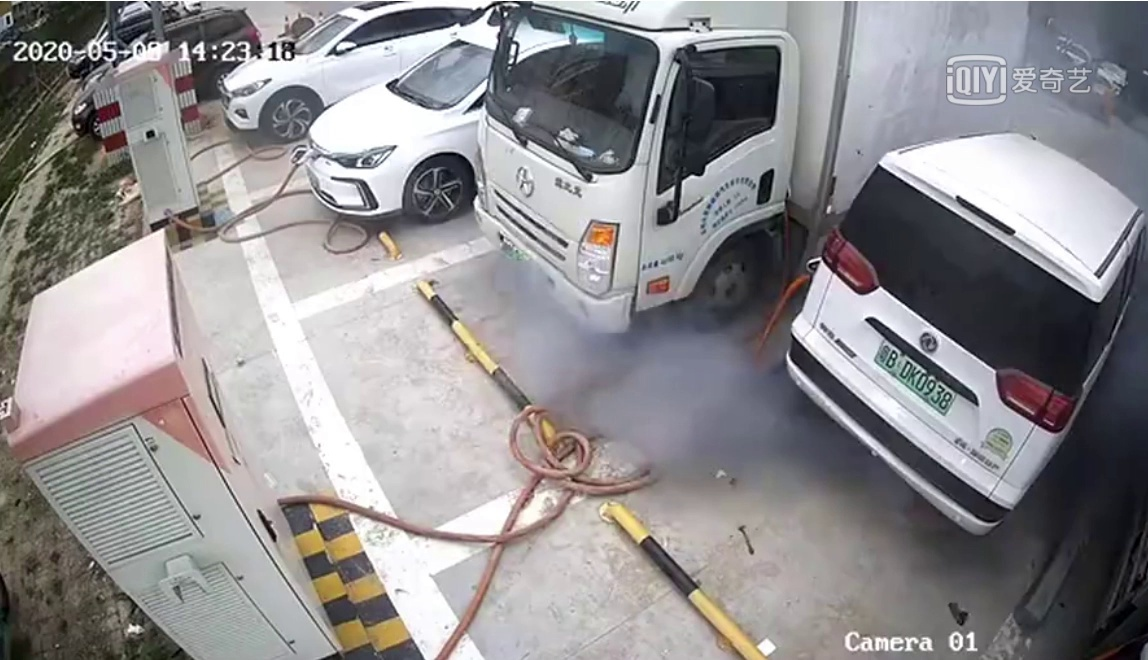smoke: (508, 273, 817, 472)
